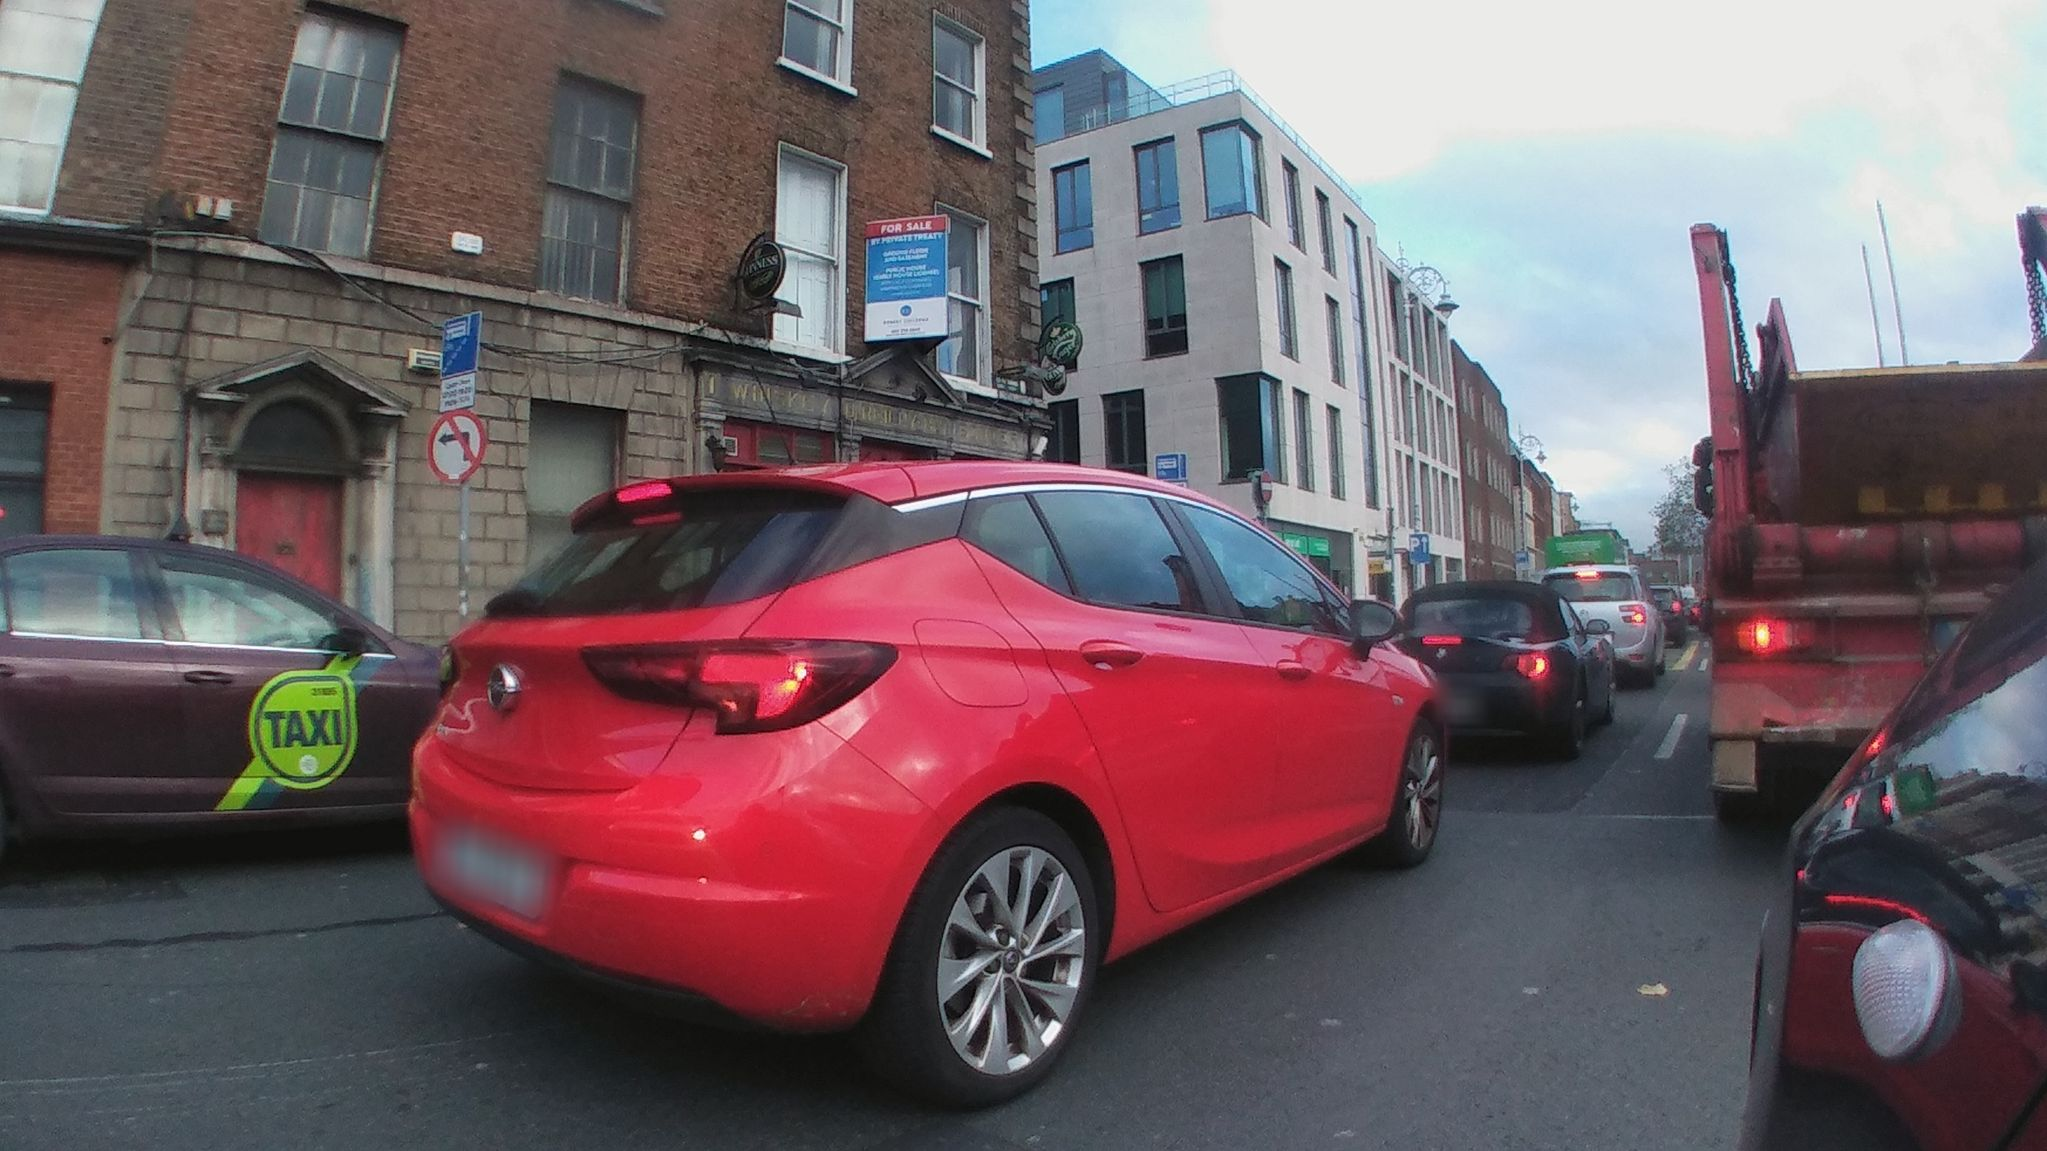property sign: (859, 193, 955, 356)
